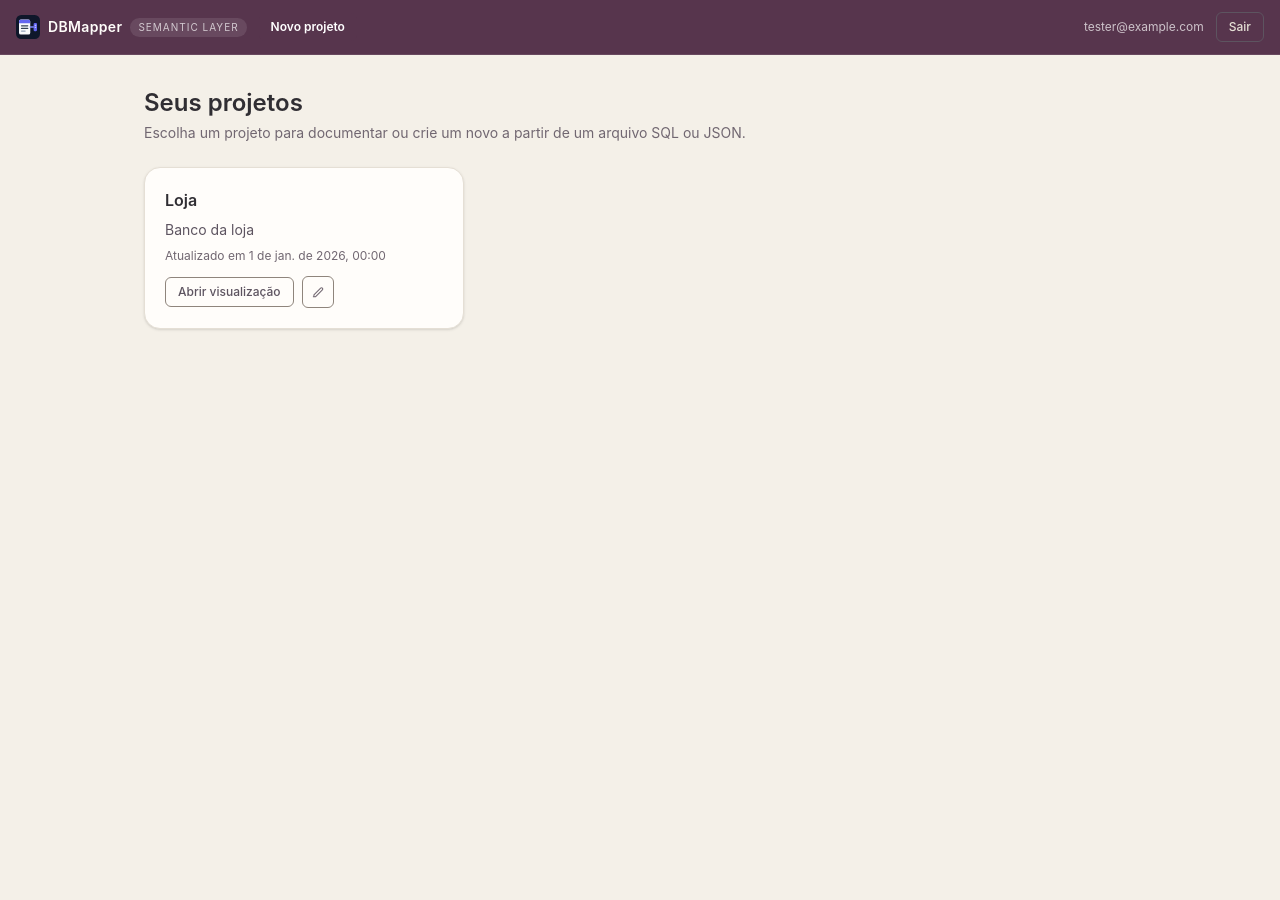
GalleryPage › renomeia um projeto pelo card sem sair da galeria
Click the button named "Renomear projeto Loja" at (318, 292), box left=302, top=276, right=334, bottom=308
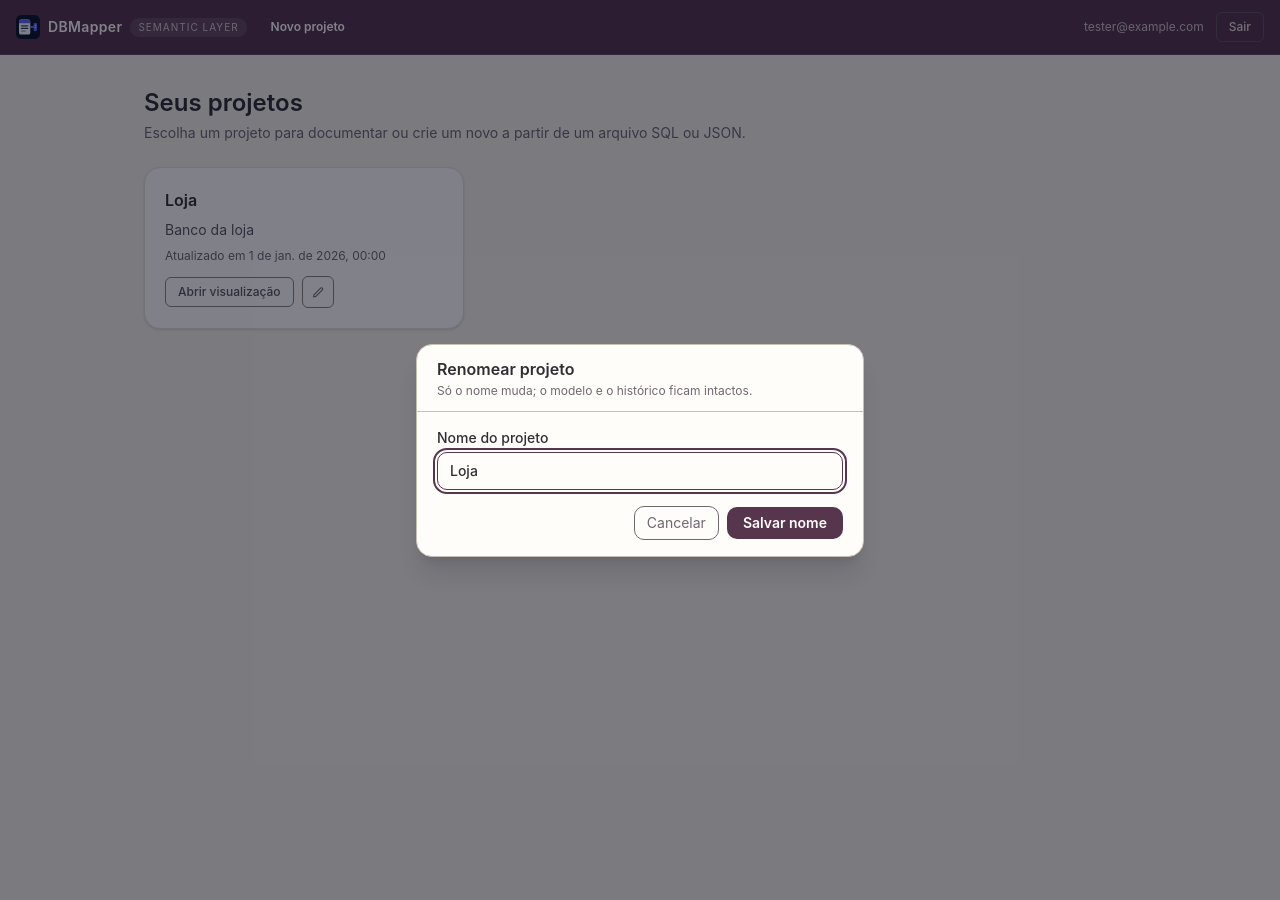
Replace the text in the field labelled "Nome do projeto" with "Banco Central" at (640, 470), box left=437, top=452, right=843, bottom=490
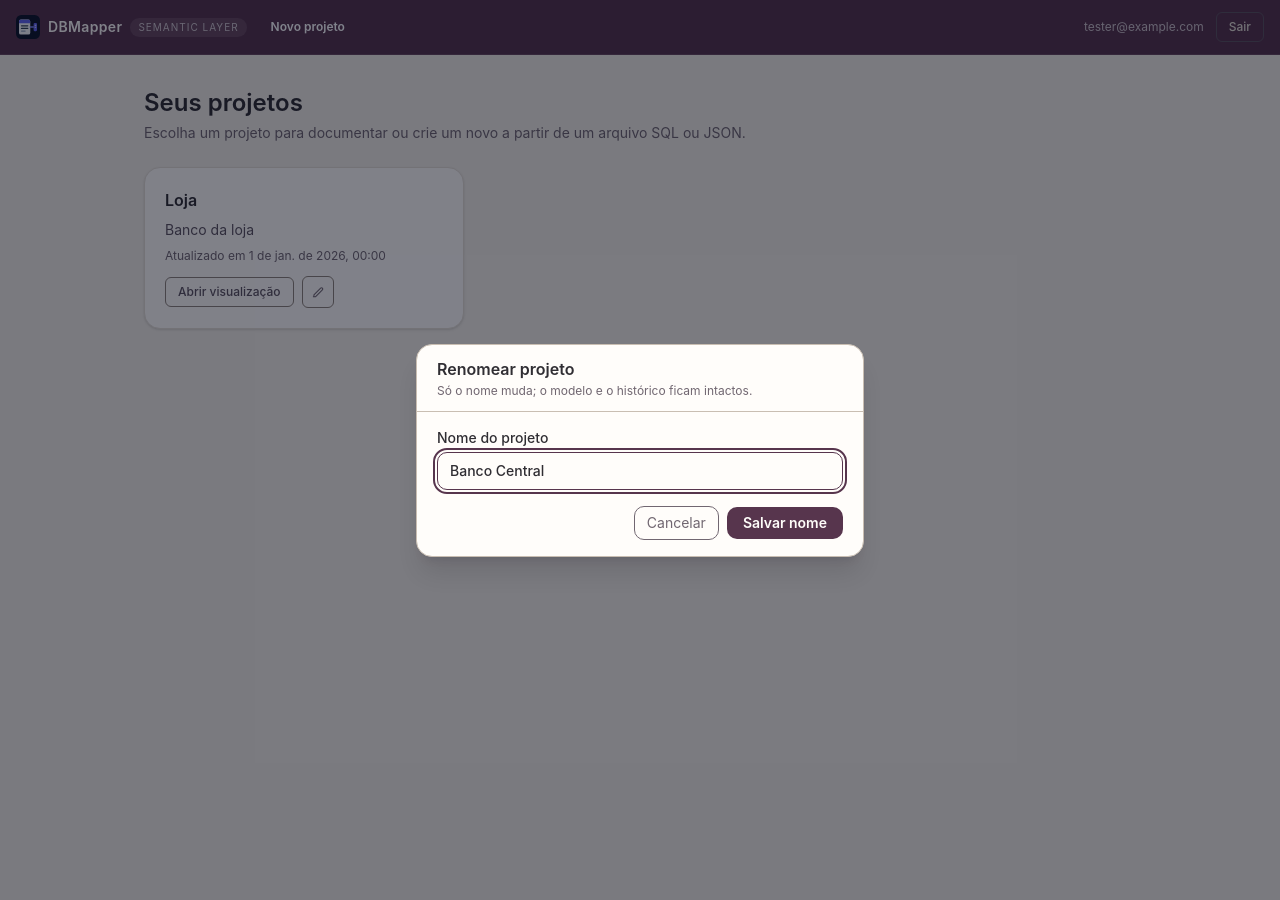
Click the button "Salvar nome" at (785, 522), box left=727, top=506, right=843, bottom=538
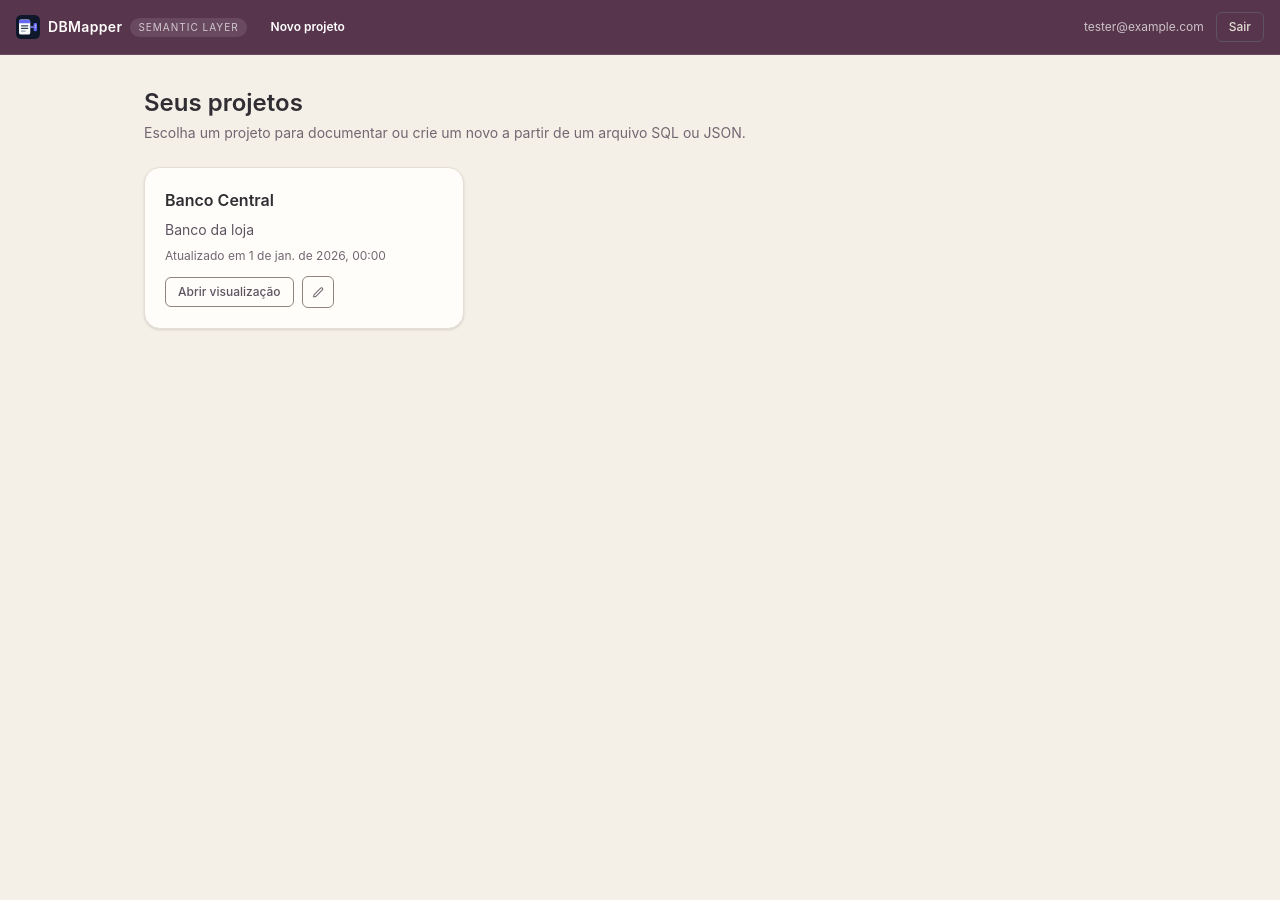
Expected: the heading "Seus projetos" is shown, left=144, top=88, right=303, bottom=117
Now the heading "Banco Central" is shown, box left=165, top=190, right=274, bottom=210
